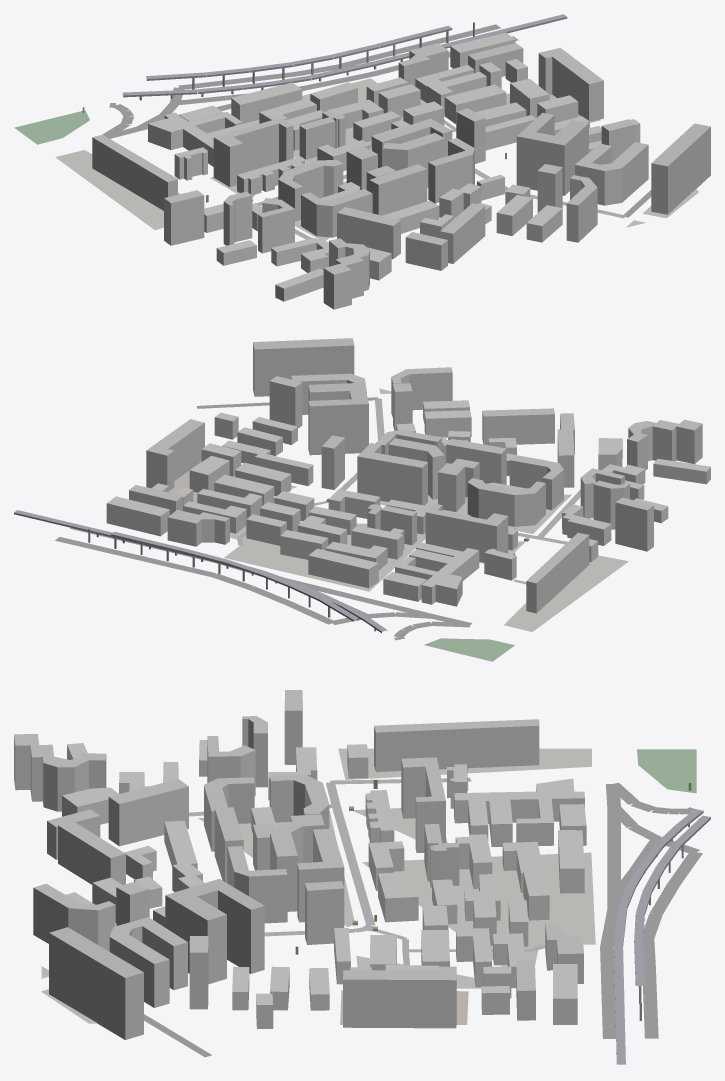
3 views of the same model, one above another, from view 1: azimuth 30°, elevation 25°; view 2: azimuth 150°, elevation 25°; view 3: azimuth 270°, elevation 25° (orthographic). The views are drawn at different scales.
Bounding box in the file's own units: 590 × 56.06 × 532.
